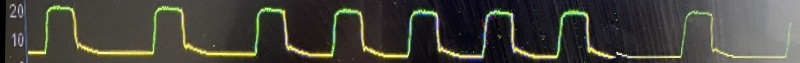normal_pressure: (21, 0, 795, 63)
